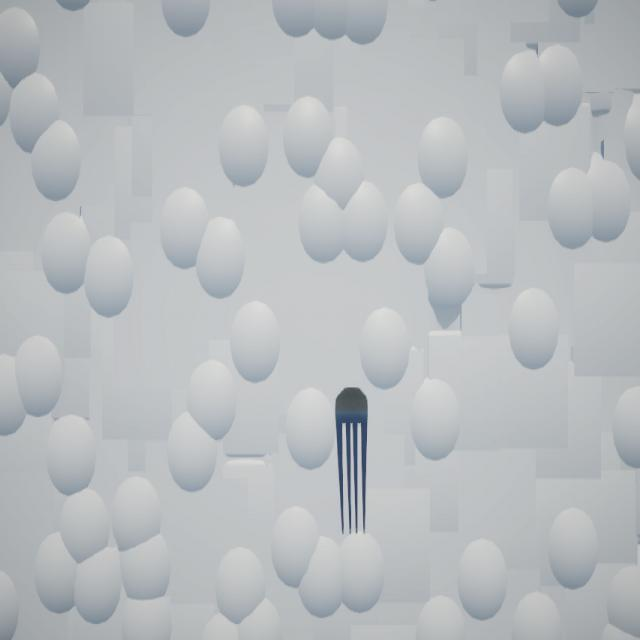top_folk: (336, 387, 369, 536)
